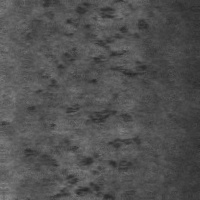rolled-in_scale: (24, 100, 144, 200), (39, 0, 152, 90)
